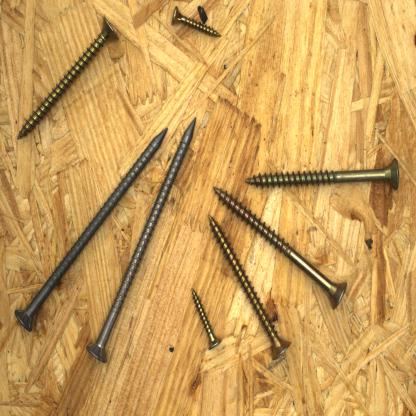screw: (13, 126, 172, 334), (85, 110, 199, 366), (212, 184, 350, 312), (207, 211, 293, 366), (16, 16, 121, 141), (244, 156, 404, 190), (188, 284, 224, 352), (168, 4, 224, 44), (171, 4, 224, 44)
